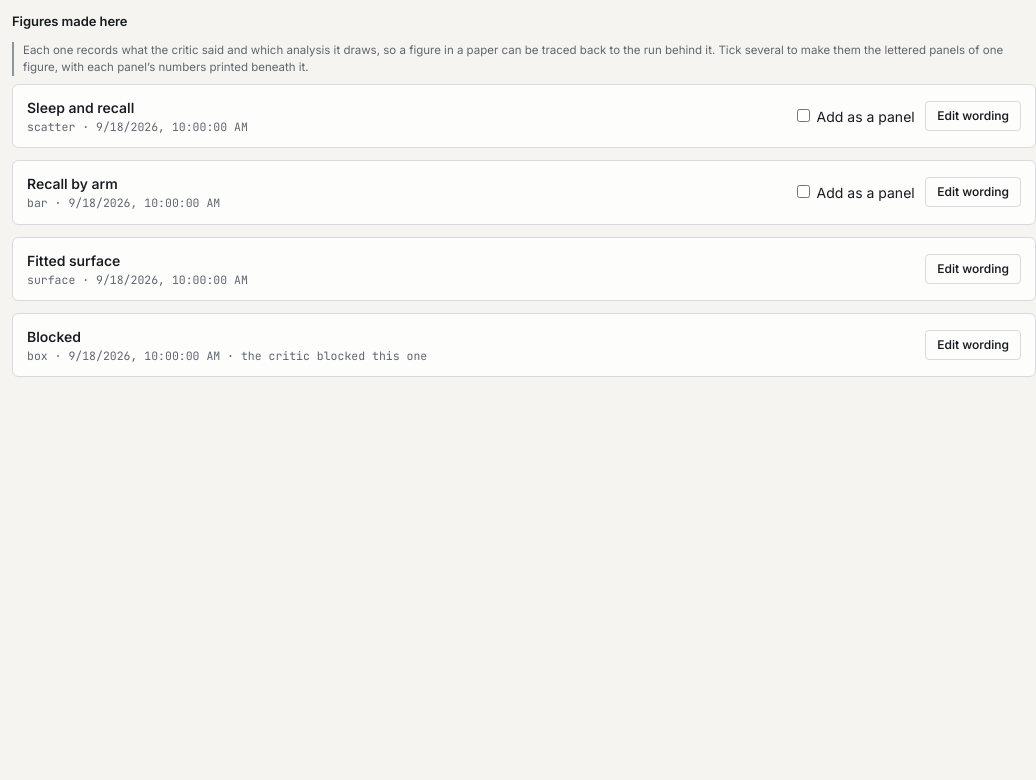
Test case: composing a figure from saved ones › removes a panel and re-letters what is left
The width and height of the screenshot is (1036, 780).
Expected: the text "Sleep and recall" is shown, [27, 99, 134, 116]
Click the checkbox labelled "Add as a panel" in the row of "Recall by arm".
click(803, 191)  # box [797, 185, 810, 198]
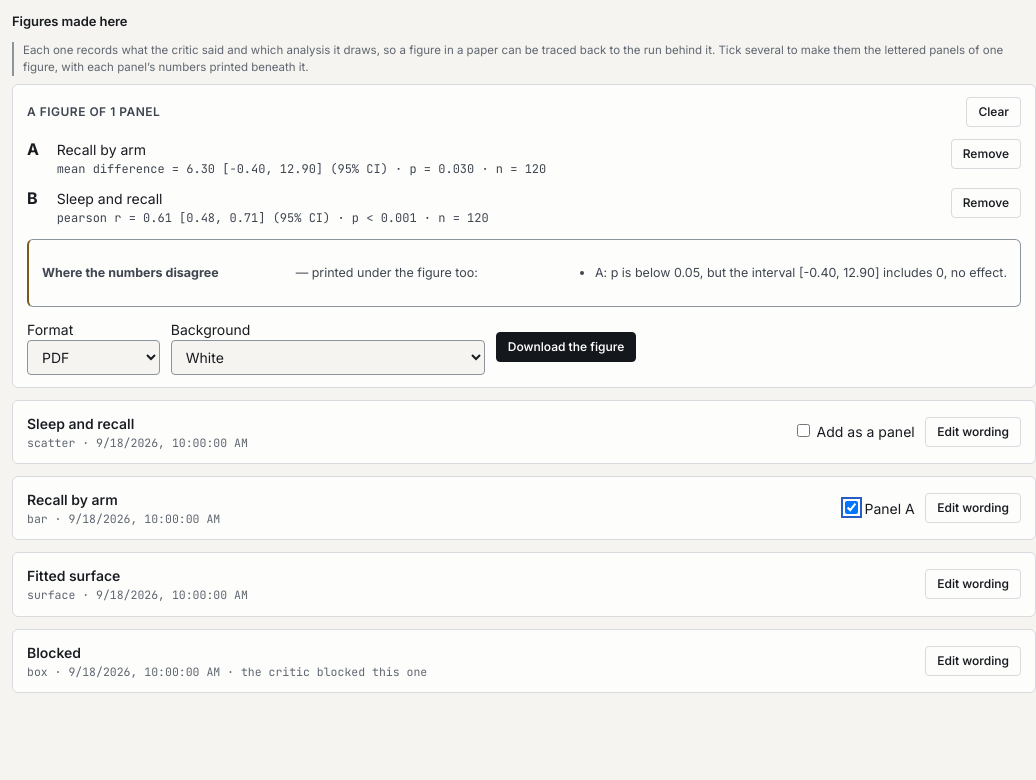
Click the checkbox labelled "Add as a panel".
click(803, 431)  # box [797, 424, 810, 437]
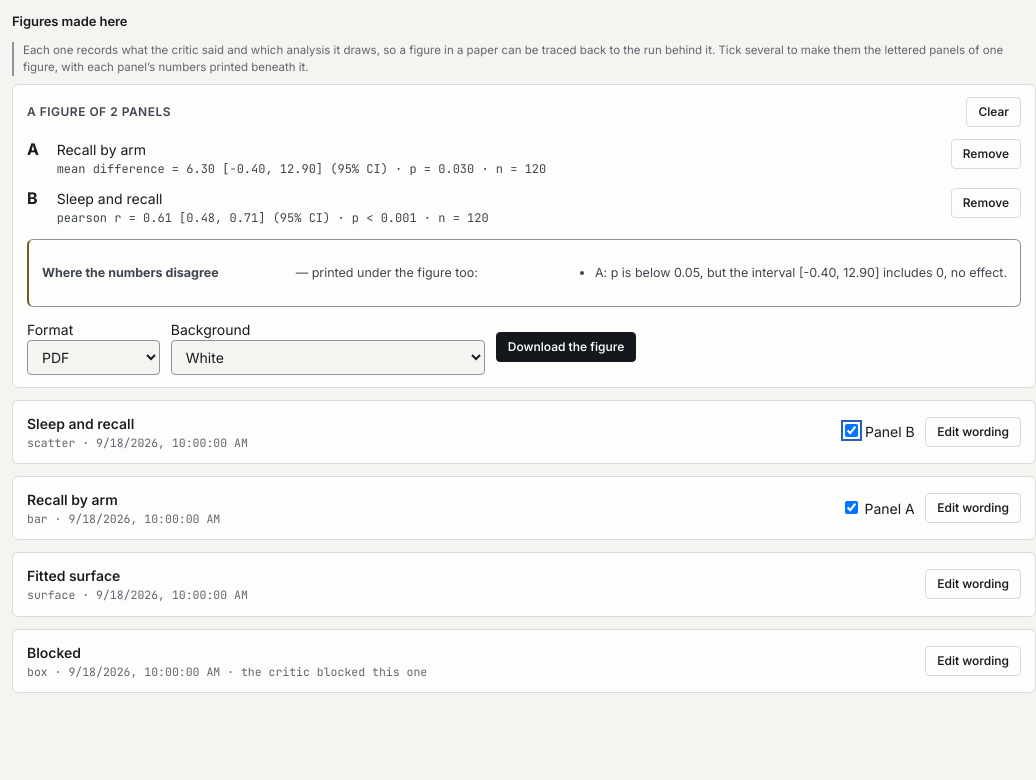
Click the checkbox labelled "Panel A".
click(851, 507)  # box [844, 501, 858, 514]
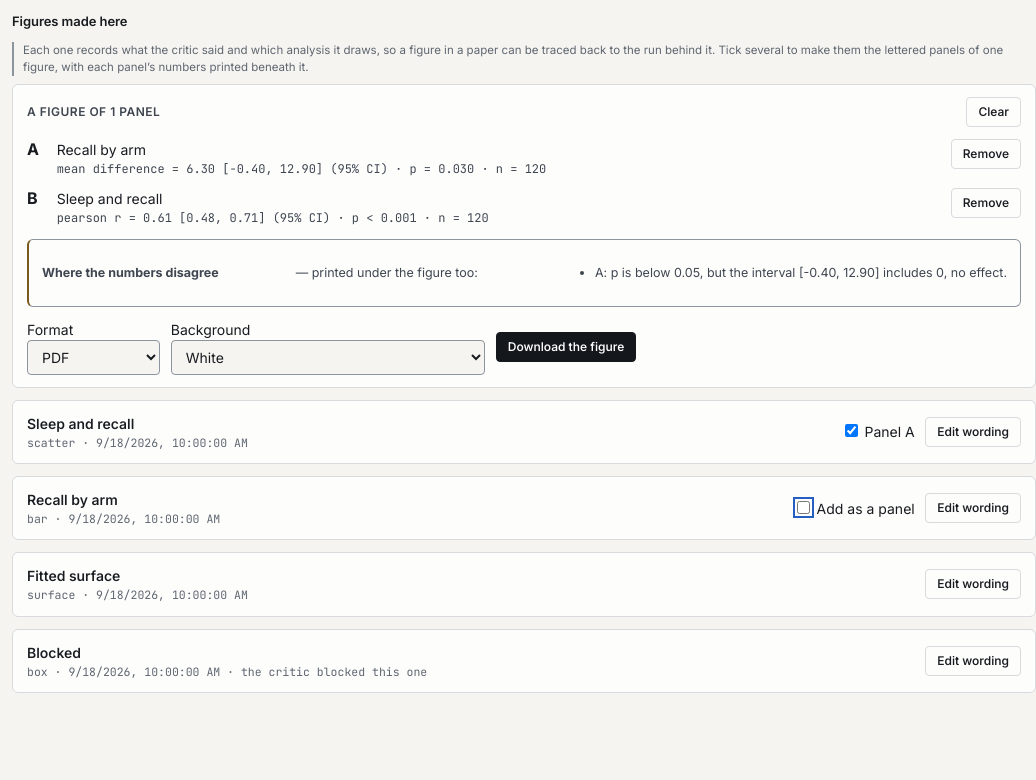
Expected: the text "Panel A" is shown, [840, 421, 915, 442]
Expected: the text "Panel B" is gone
